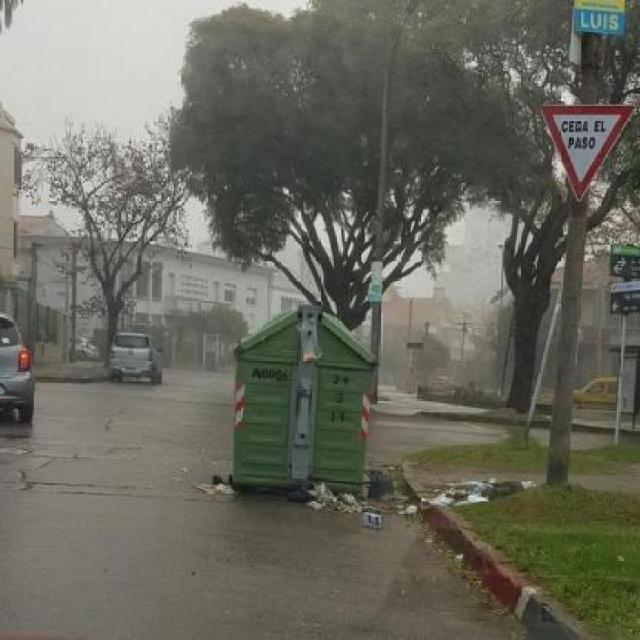garbage: (419, 456, 543, 515), (289, 471, 403, 535), (189, 452, 263, 518), (295, 303, 340, 386)
